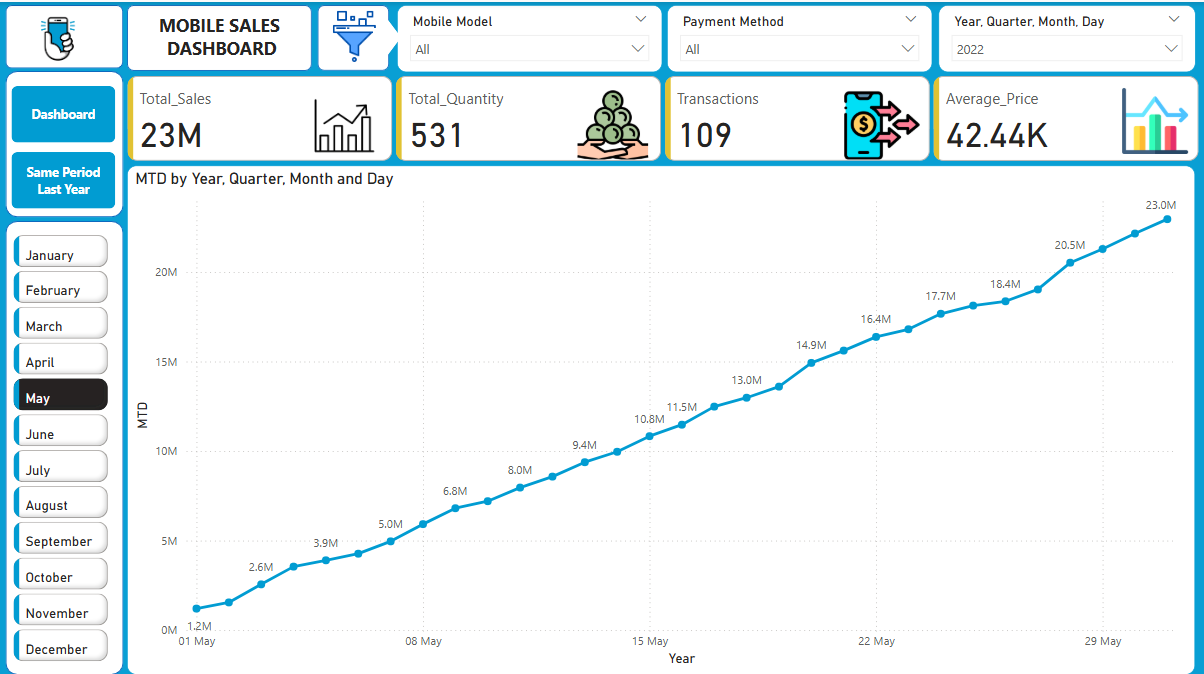

Layout of this report page (visuals, bound fields, positions):
{"tool":"powerbi","page":{"name":"MTD Report","canvas":[1280,720],"ordinal":1},"visuals":[{"type":"shape","box":[7.5,3.8,125,67.5],"z":0},{"type":"image","box":[23.8,3.8,78.8,71.2],"z":1000},{"type":"shape","box":[7.5,73.8,125,155],"z":2000},{"type":"cardVisual","fields":{"Data":["Sales_Data.Total_Sales","Sales_Data.Total_Quantity","Sales_Data.Transactions","Sales_Data.Average_Price"]},"box":[132.5,73.8,1147.5,100],"z":3000},{"type":"slicer","fields":{"Values":["Sales_Data.Mobile Model"]},"box":[423.8,3.8,281.2,71.2],"z":4000},{"type":"slicer","fields":{"Values":["Sales_Data.Payment Method"]},"box":[710,3.8,281.2,71.2],"z":5000},{"type":"slicer","fields":{"Values":["Custom_Calendar.Date.Variation.Date Hierarchy.Year","Custom_Calendar.Date.Variation.Date Hierarchy.Quarter","Custom_Calendar.Date.Variation.Date Hierarchy.Month","Custom_Calendar.Date.Variation.Date Hierarchy.Day"]},"box":[997.5,3.8,272.5,71.2],"z":6000},{"type":"shape","box":[338.8,3.8,76.2,70],"z":7000},{"type":"image","box":[337.5,3.8,81.2,66.2],"z":8000},{"type":"shape","box":[397.5,17.5,30,40],"z":9000},{"type":"shape","box":[137.5,3.8,196.2,70],"z":10000},{"type":"textbox","box":[156.2,6.2,162.5,63.8],"z":11000},{"type":"lineChart","fields":{"Y":["Sales_Data.MTD"],"Category":["Custom_Calendar.Date.Variation.Date Hierarchy.Year","Custom_Calendar.Date.Variation.Date Hierarchy.Quarter","Custom_Calendar.Date.Variation.Date Hierarchy.Month","Custom_Calendar.Date.Variation.Date Hierarchy.Day"]},"box":[137.5,173.8,1132.5,540],"z":12000},{"type":"shape","box":[7.5,232.5,125,481.2],"z":13000},{"type":"advancedSlicerVisual","fields":{"Values":["Custom_Calendar.Date.Variation.Date Hierarchy.Month"]},"box":[11.2,241.2,110,472.5],"z":14000},{"type":"pageNavigator","box":[15,88.8,110,130],"z":15000}]}

Visuals, with their boxes in screenshot pixels (x1, y1, x2, y2), scaled from the page's 1280x720 canvas onto the 1204x674 screenshot:
shape: [7, 4, 125, 67]
image: [22, 4, 97, 70]
shape: [7, 69, 125, 214]
cardVisual - Sales_Data.Total_Sales x Sales_Data.Total_Quantity: [125, 69, 1203, 163]
slicer - Sales_Data.Mobile Model: [399, 4, 663, 70]
slicer - Sales_Data.Payment Method: [668, 4, 932, 70]
slicer - Custom_Calendar.Date.Variation.Date Hierarchy.Year x Custom_Calendar.Date.Variation.Date Hierarchy.Quarter: [938, 4, 1195, 70]
shape: [319, 4, 390, 69]
image: [317, 4, 394, 66]
shape: [374, 16, 402, 54]
shape: [129, 4, 314, 69]
textbox: [147, 6, 300, 66]
lineChart - Sales_Data.MTD x Custom_Calendar.Date.Variation.Date Hierarchy.Year: [129, 163, 1195, 668]
shape: [7, 218, 125, 668]
advancedSlicerVisual - Custom_Calendar.Date.Variation.Date Hierarchy.Month: [11, 226, 114, 668]
pageNavigator: [14, 83, 118, 205]
